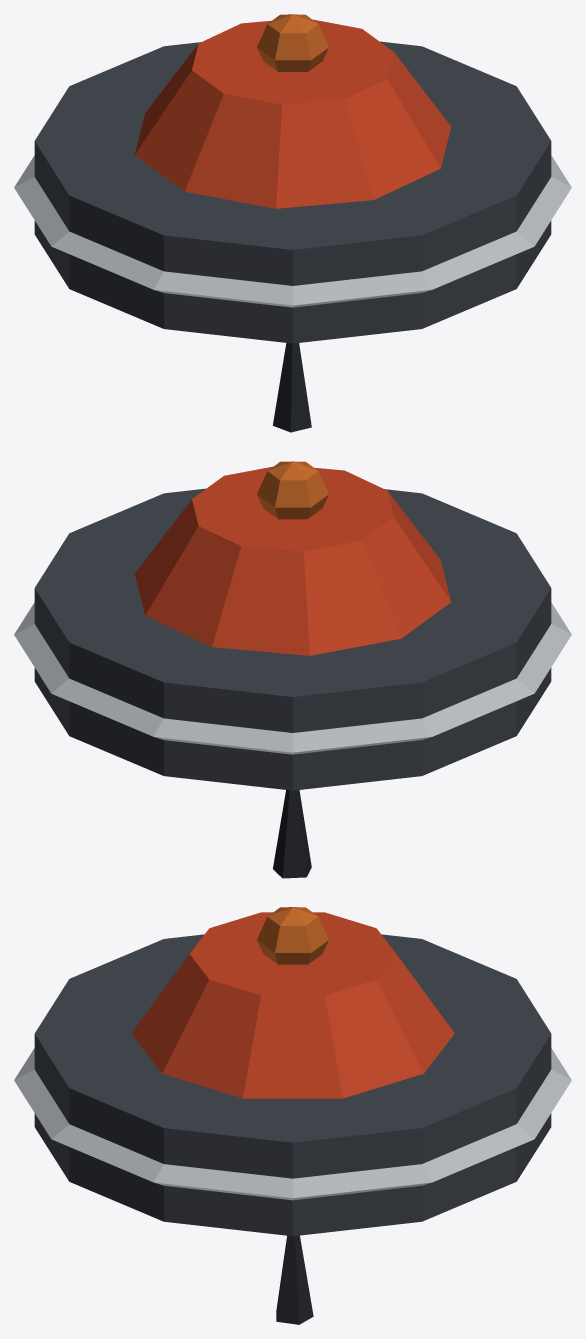
Rendered from mine-incendiary.glb.
The picture shows the model from 3 angles, top to bottom: view 1: azimuth 30°, elevation 25°; view 2: azimuth 150°, elevation 25°; view 3: azimuth 270°, elevation 25°; orthographic projection.
Visible parts, largest first — view 1: m; view 2: m; view 3: m.
Part boxes in pixels (left/top/right/bottom): m: left=14, top=14, right=571, bottom=432; m: left=14, top=461, right=571, bottom=878; m: left=14, top=907, right=571, bottom=1324.
Size of the model in its own units: 0.1 by 0.0611 by 0.1.
